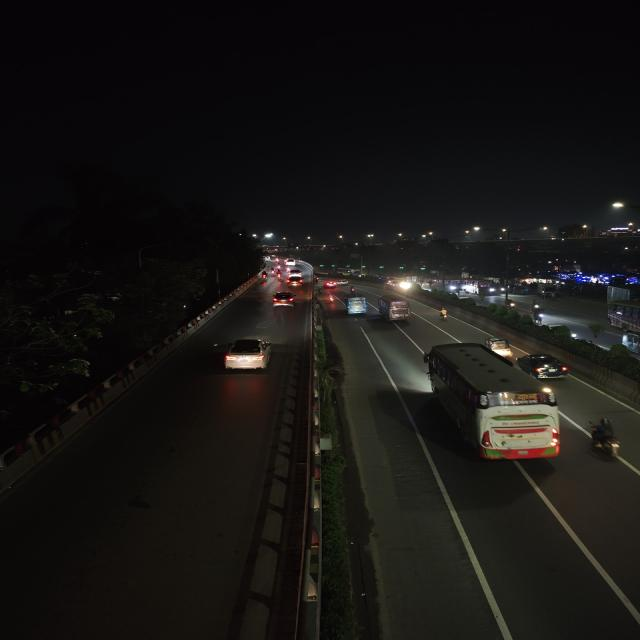bus: (420, 340, 567, 466), (605, 288, 640, 354), (375, 295, 412, 324), (344, 294, 369, 316), (475, 281, 504, 298), (445, 278, 474, 293)
car: (219, 337, 275, 373), (516, 351, 572, 381), (270, 291, 297, 309), (286, 275, 303, 287), (324, 280, 338, 288)
cng: (484, 334, 514, 358)
motorcycle: (586, 416, 626, 462), (526, 308, 547, 325), (436, 306, 452, 322), (505, 297, 519, 311), (529, 299, 544, 312), (259, 270, 270, 280), (327, 293, 335, 304), (274, 270, 282, 280)
truck: (376, 296, 412, 324)
